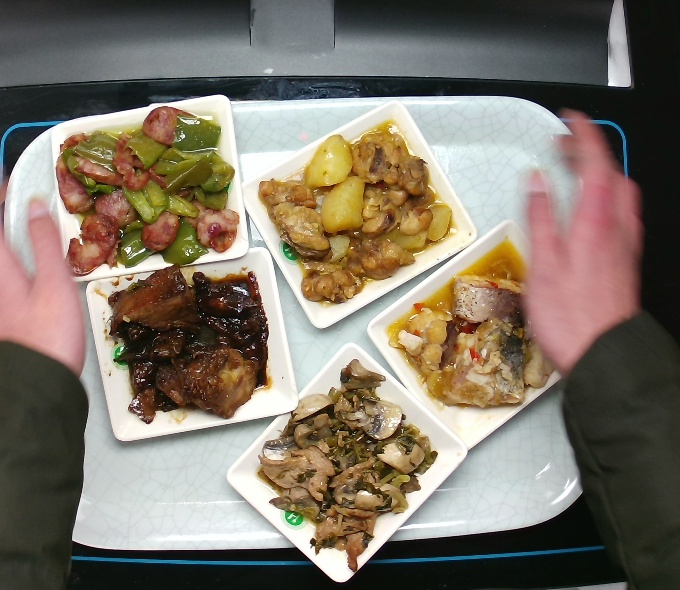wcq-JiangZhiYa: (106, 261, 272, 425)
wcq-MoGuRouPian: (255, 357, 440, 572)
wcq-QingJiaoXiangChang: (54, 105, 241, 277)
wcq-TuDouJiKuai: (257, 121, 458, 306)
